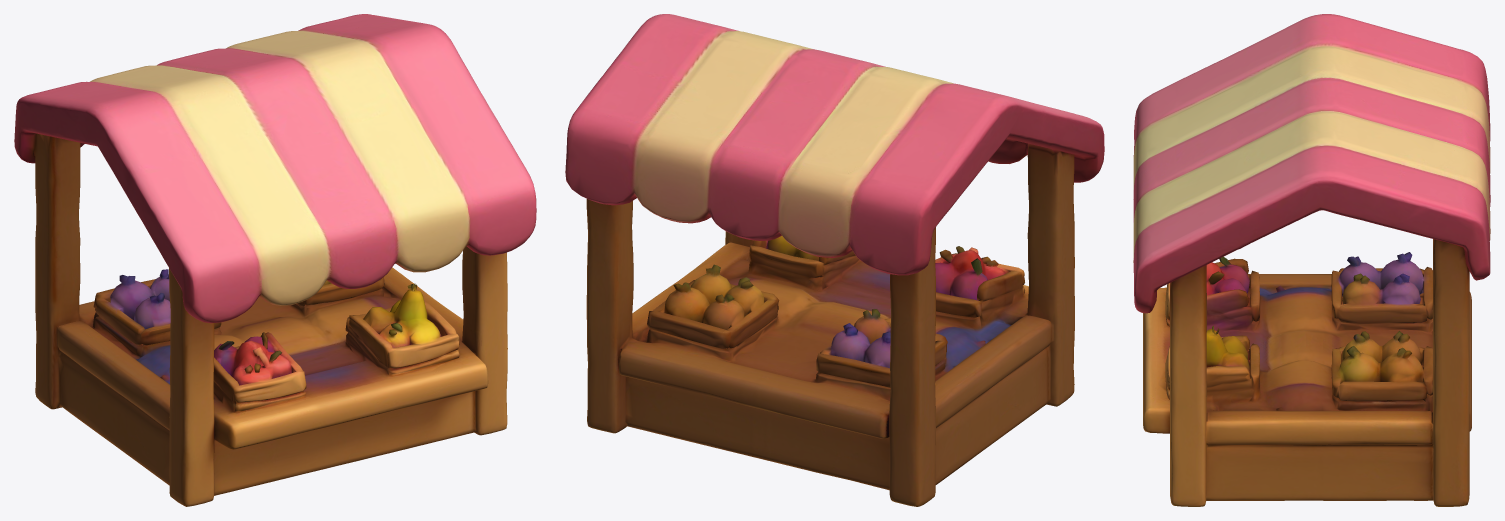
The model's file is shop.glb.
3 views of the same model, side by side, from view 1: azimuth 30°, elevation 25°; view 2: azimuth 150°, elevation 25°; view 3: azimuth 270°, elevation 25° (orthographic). The views are drawn at different scales.
Parts seen in each view (by area): view 1: tripo_node_1fe44f84-2ed0-4c54-892d-77b477d1091b; view 2: tripo_node_1fe44f84-2ed0-4c54-892d-77b477d1091b; view 3: tripo_node_1fe44f84-2ed0-4c54-892d-77b477d1091b.
Boxes of the visible parts, left/top/right/bottom form: tripo_node_1fe44f84-2ed0-4c54-892d-77b477d1091b: left=14, top=14, right=536, bottom=506; tripo_node_1fe44f84-2ed0-4c54-892d-77b477d1091b: left=565, top=14, right=1104, bottom=506; tripo_node_1fe44f84-2ed0-4c54-892d-77b477d1091b: left=1133, top=14, right=1490, bottom=506.
Size of the model in its own units: 1 by 0.9437 by 0.9046.
Materials: 1 (1 with a texture image).
